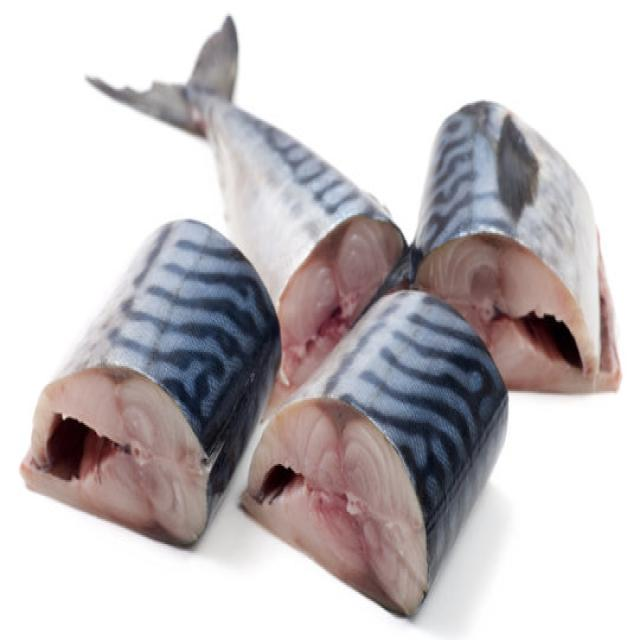Mackerel: (119, 21, 401, 404), (242, 291, 508, 614), (21, 221, 281, 543), (415, 101, 620, 389)
